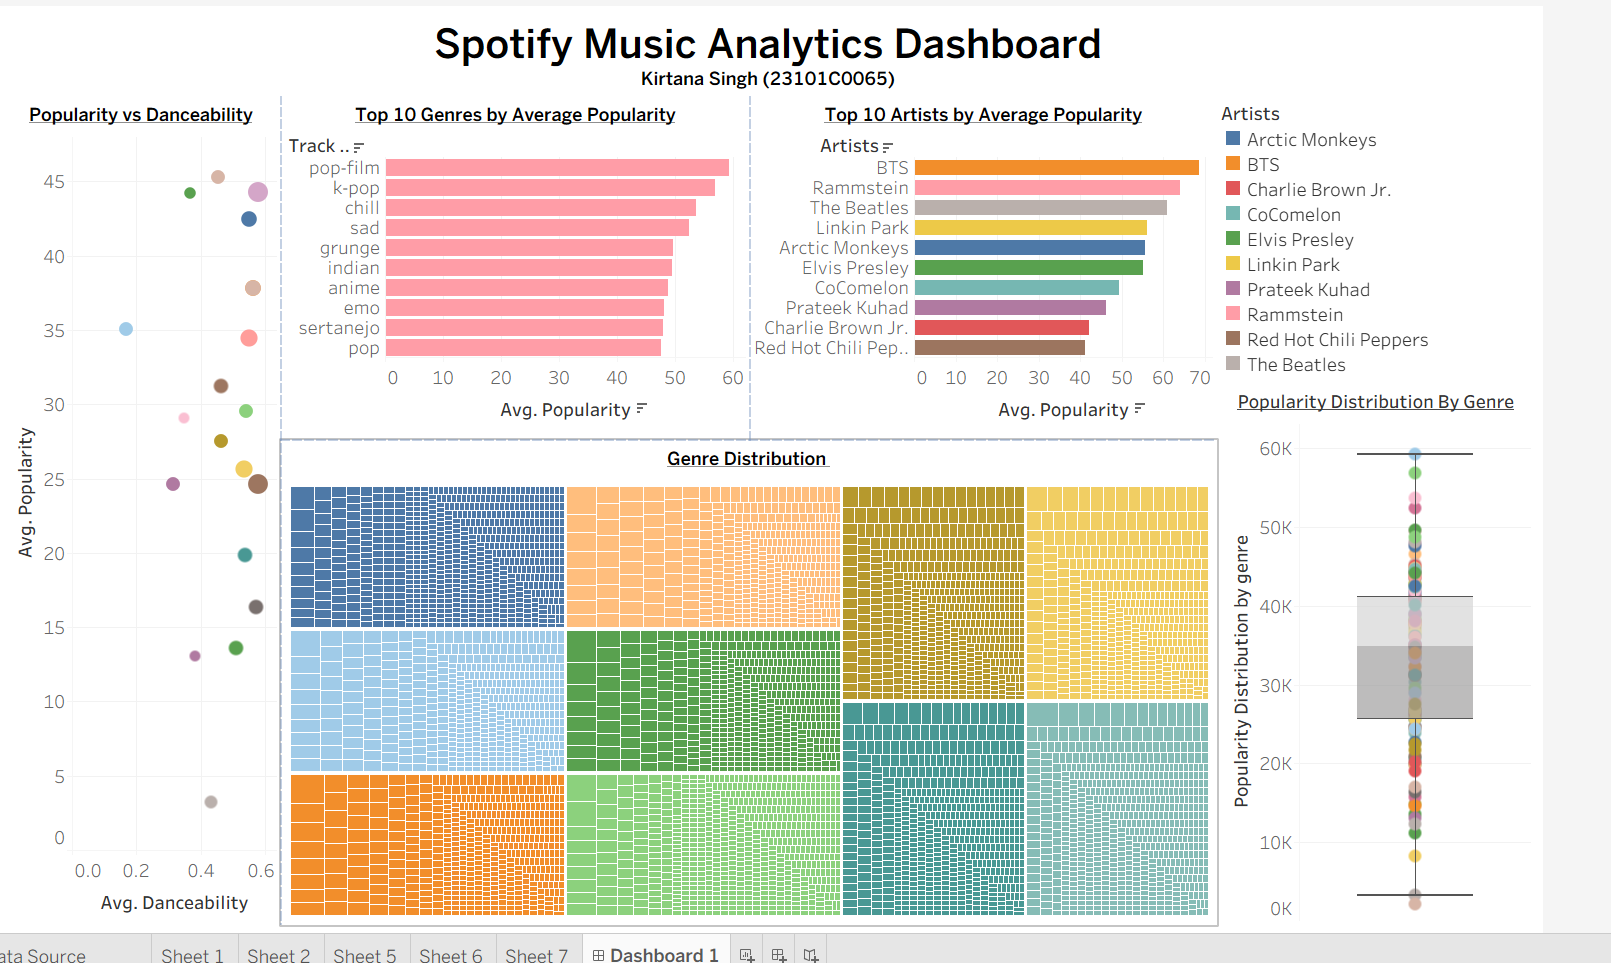

Layout of this report page (visuals, bound fields, positions):
{"tool":"tableau","page":{"name":"Dashboard 1","canvas":[1000,1000],"units":"permille","ordinal":0},"visuals":[{"type":"text","box":[5.2,8.6,989.7,88.4]},{"type":"worksheet","title":"Sheet 5","mark":"Circle","rows":["popularity"],"cols":["danceability"],"box":[5.2,97.1,180.6,894.3]},{"type":"worksheet","title":"Sheet 1","mark":"Automatic","rows":["track_genre"],"cols":["popularity"],"box":[185.8,97.1,302.6,371.1]},{"type":"worksheet","title":"Sheet 2","mark":"Automatic","rows":["artists"],"cols":["popularity"],"box":[488.4,97.1,301.3,371.1]},{"type":"legend","title":"Sheet 2","param":"[federated.0ewesnz0pkknqd1dk22ud1upjf5m].[none:artists:nk]","box":[789.7,97.1,205.2,306.4]},{"type":"worksheet","title":"Sheet 7","mark":"Circle","rows":["popularity"],"box":[789.7,403.4,205.2,587.9]},{"type":"worksheet","title":"Sheet 6","mark":"Automatic","box":[185.8,468.1,603.9,523.2]}]}

Visuals, with their boxes on the dashboard's canvas, which has no fixed pixel size, in thousandths of its width and height (x1, y1, x2, y2). These are canvas units, not pixel positions in the 1611x963 screenshot, which may show the page scaled, cropped or inside an application window:
text: l=5, t=9, r=995, b=97
"Sheet 5" worksheet (Circle marks): l=5, t=97, r=186, b=991
"Sheet 1" worksheet: l=186, t=97, r=488, b=468
"Sheet 2" worksheet: l=488, t=97, r=790, b=468
"Sheet 2" legend: l=790, t=97, r=995, b=404
"Sheet 7" worksheet (Circle marks): l=790, t=403, r=995, b=991
"Sheet 6" worksheet: l=186, t=468, r=790, b=991
